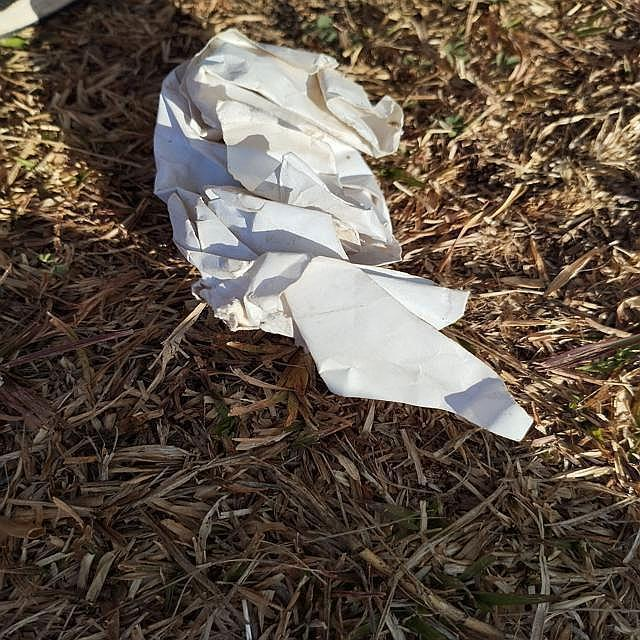Biodegradable: (155, 29, 527, 447)
